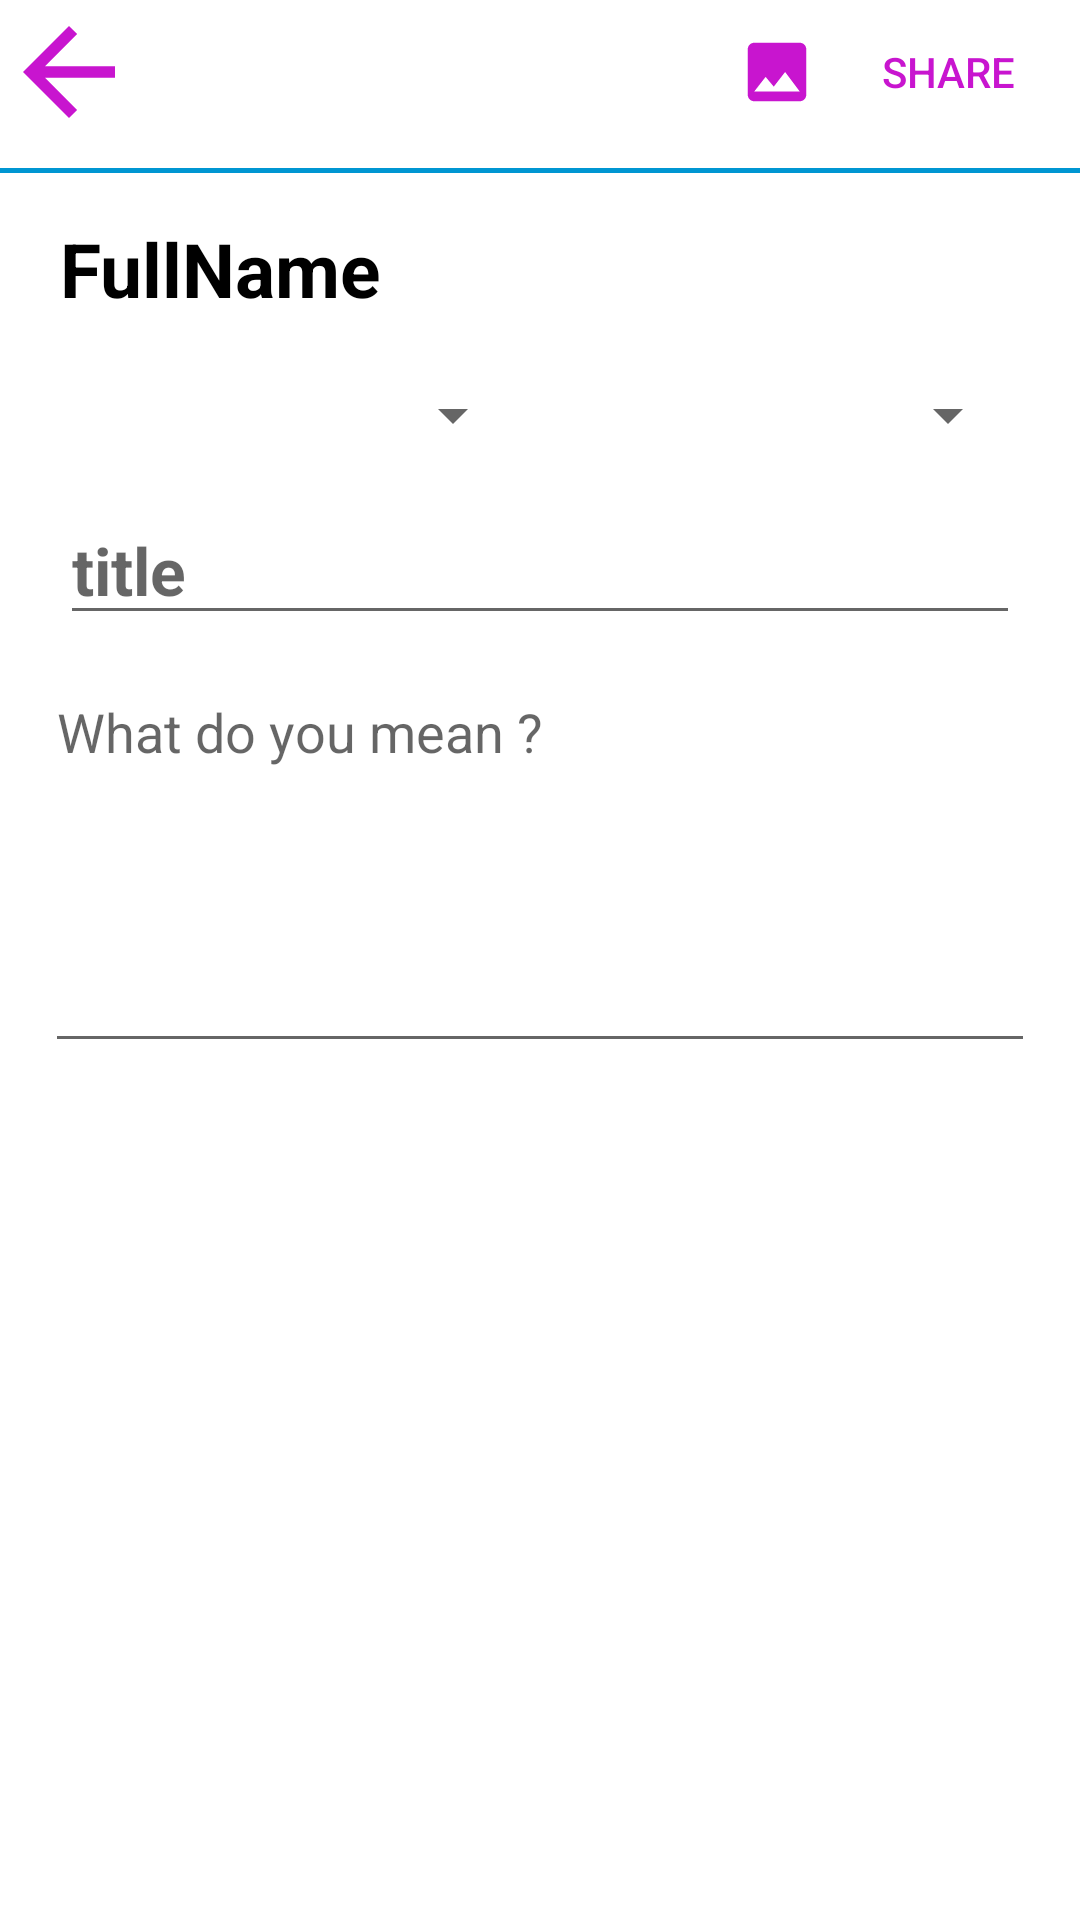

Where to tap for icons on this 1080px×1920px app screen, as (x=x, y=y):
back: (x=69, y=72)
